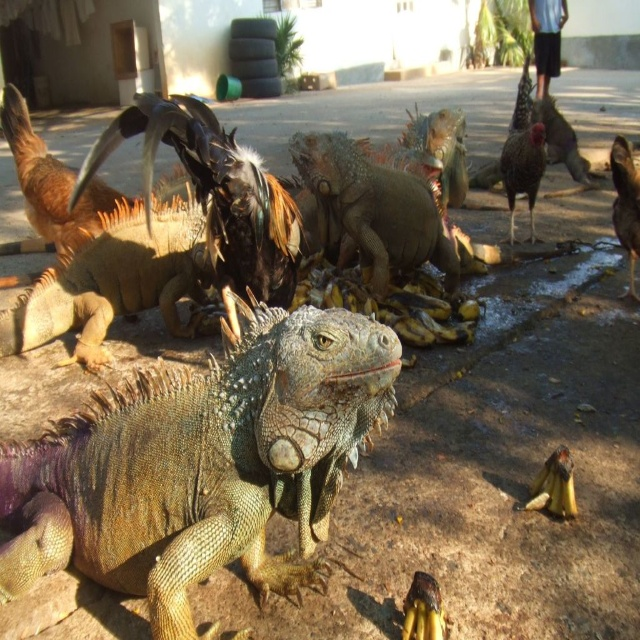Lizard: (6, 300, 402, 640)
